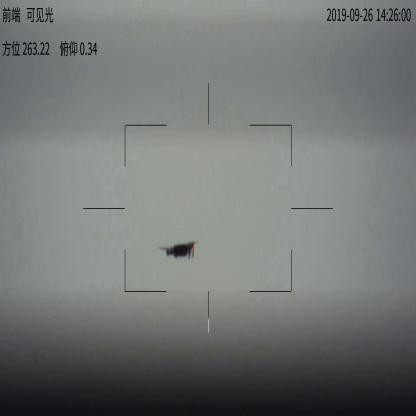uav: (157, 241, 197, 260)
